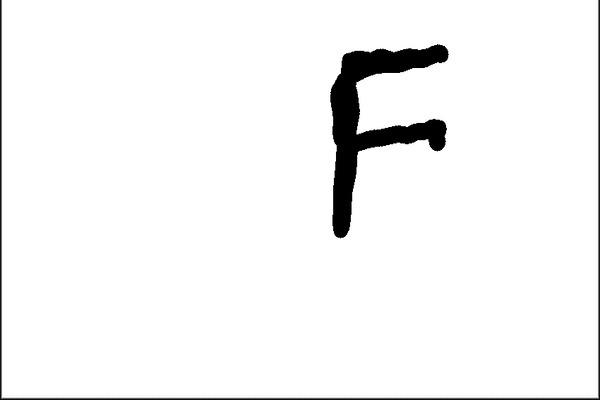F: (323, 38, 454, 242)
